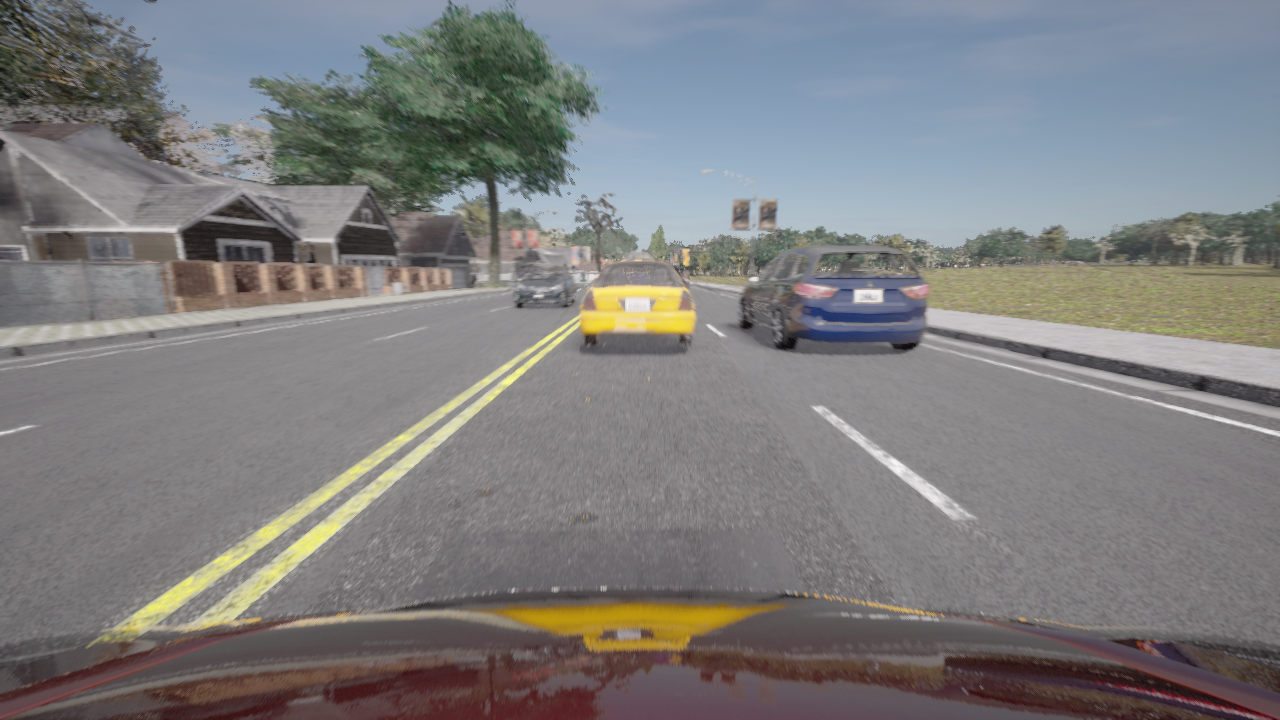cyclist: (0, 588, 1279, 719), (738, 245, 928, 350), (580, 253, 694, 346), (513, 265, 575, 308), (684, 277, 688, 288)
